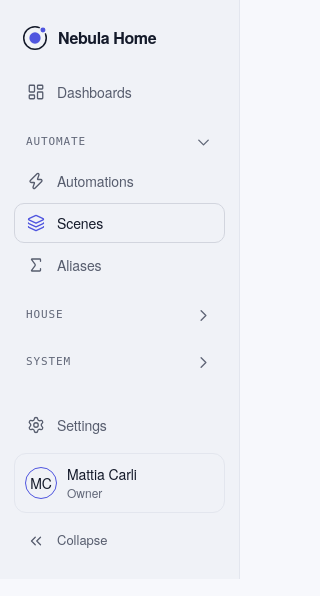
Test case: Sidebar › forgets a group opened by hand once you move on, and follows where you are
This screenshot has width=320, height=596.
Click the button "House": {"x": 120, "y": 315} [14,298,225,332]
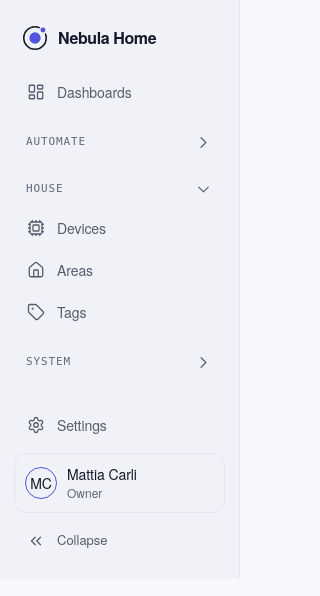
Click the link "Tags": {"x": 57, "y": 312} [27,302,86,322]
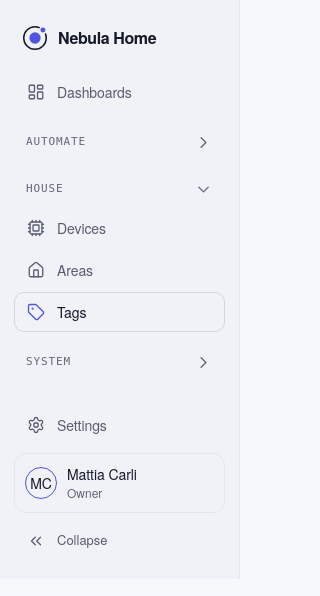
Now the button "House" is expanded, box [14,172,225,206]
Now the button "Automate" is collapsed, box [14,125,225,159]
Click the link "Dashboards": {"x": 79, "y": 92} [27,82,132,102]
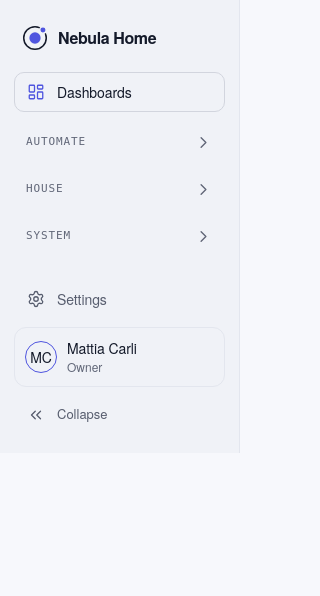
Now the button "House" is collapsed, box [14,172,225,206]
